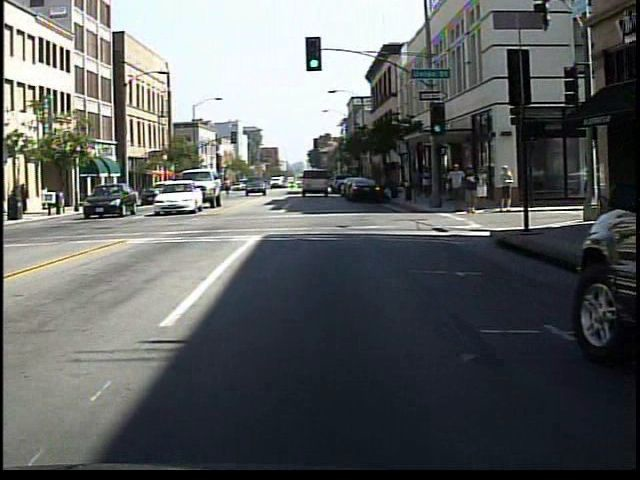person: (445, 162, 466, 214), (495, 162, 515, 215), (461, 165, 481, 217), (475, 164, 492, 215), (416, 163, 434, 206), (219, 174, 237, 202)
